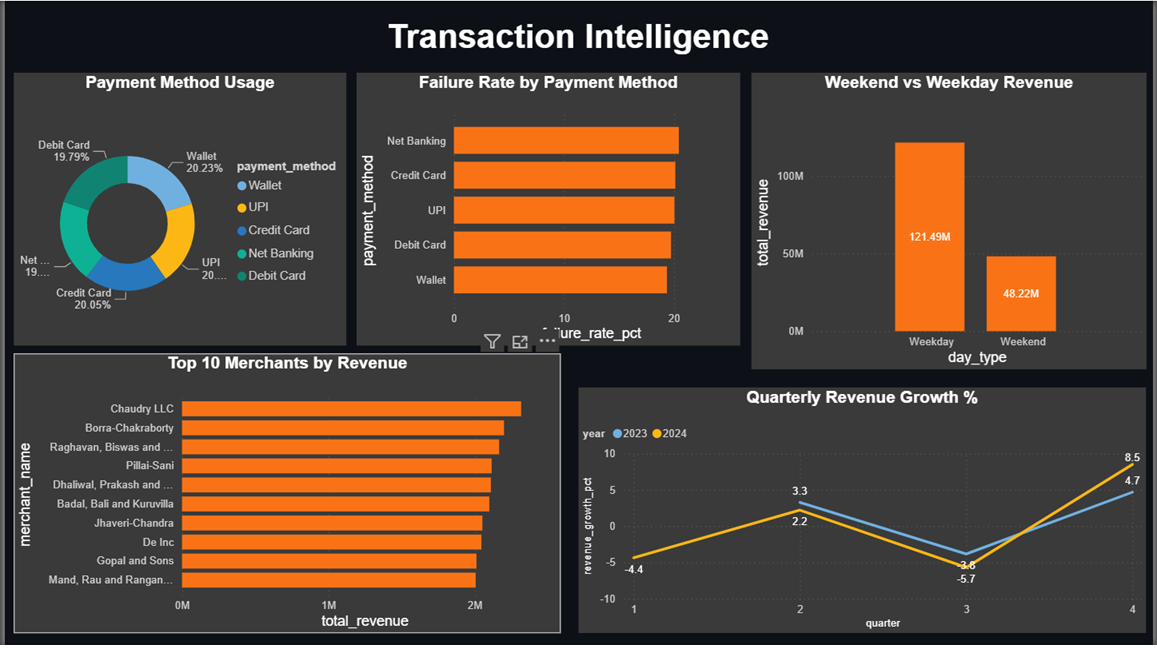

This screenshot's page, from the dashboard's own definition file:
{"tool":"powerbi","page":{"name":"Transaction Intelligence","canvas":[1280,720],"ordinal":2},"visuals":[{"type":"donutChart","title":"Payment Method Usage","fields":{"Category":["public vw_payment_analysis.payment_method"],"Y":["Sum(public vw_payment_analysis.total_transactions)"]},"box":[9.7,79.6,370.4,304],"z":0},{"type":"clusteredBarChart","title":"Failure Rate by Payment Method","fields":{"Category":["public vw_payment_analysis.payment_method"],"Y":["Sum(public vw_payment_analysis.failure_rate_pct)"]},"box":[392.1,79.6,427.1,304],"z":1},{"type":"clusteredColumnChart","title":"Weekend vs Weekday Revenue","fields":{"Category":["public vw_weekend_vs_weekday.day_type"],"Y":["Sum(public vw_weekend_vs_weekday.total_revenue)"]},"box":[831.2,79.6,440.4,330.6],"z":2},{"type":"lineChart","title":"Quarterly Revenue Growth %","fields":{"Category":["public vw_quarterly_growth.quarter"],"Y":["Sum(public vw_quarterly_growth.revenue_growth_pct)"],"Series":["public vw_quarterly_growth.year"]},"box":[639.4,430.7,632.2,273.9],"z":3},{"type":"clusteredBarChart","title":"Top 10 Merchants by Revenue","fields":{"Category":["public vw_top_merchants.merchant_name"],"Y":["Sum(public vw_top_merchants.total_revenue)"]},"box":[9.7,393.3,609.3,311.3],"z":4},{"type":"textbox","box":[348.7,13.3,580.3,63.9],"z":5}]}

Visuals, with their boxes in screenshot pixels (x1, y1, x2, y2), scaled from the page's 1280x720 canvas onto the 1157x648 screenshot:
"Payment Method Usage" donutChart: [x1=9, y1=72, x2=344, y2=345]
"Failure Rate by Payment Method" clusteredBarChart: [x1=354, y1=72, x2=740, y2=345]
"Weekend vs Weekday Revenue" clusteredColumnChart: [x1=751, y1=72, x2=1149, y2=369]
"Quarterly Revenue Growth %" lineChart: [x1=578, y1=388, x2=1149, y2=634]
"Top 10 Merchants by Revenue" clusteredBarChart: [x1=9, y1=354, x2=560, y2=634]
textbox: [x1=315, y1=12, x2=840, y2=69]
